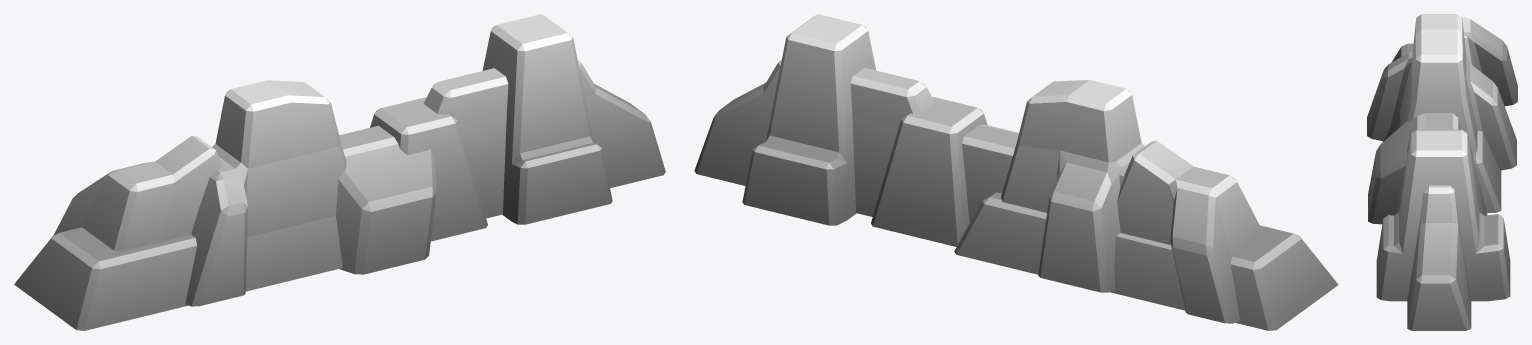
The model's file is Rock Large 4.glb.
3 renders of one model, left to right at view 1: azimuth 30°, elevation 25°; view 2: azimuth 150°, elevation 25°; view 3: azimuth 270°, elevation 25°, orthographic. The views are drawn at different scales.
Parts seen in each view (by area): view 1: Rock Large 4; view 2: Rock Large 4; view 3: Rock Large 4.
Part boxes in pixels (x1,y1,x2,y2): Rock Large 4: (14,14,665,330); Rock Large 4: (694,14,1338,330); Rock Large 4: (1367,14,1517,330).
Size of the model in its own units: 12.69 by 3.37 by 3.15.
1 material, 1 textured.
